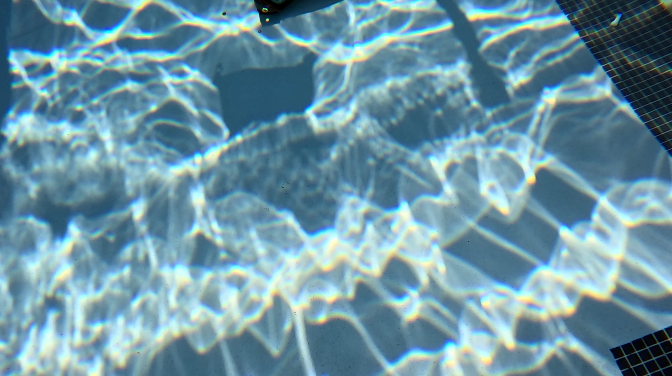sandbag: (252, 0, 301, 24)
